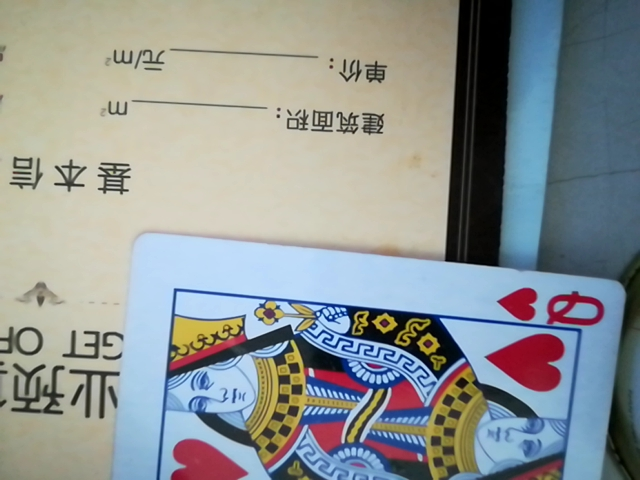hx q: (107, 233, 626, 477)
